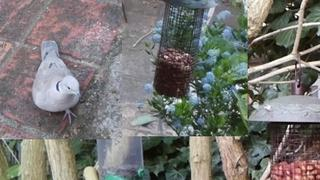collared dove: (31, 40, 82, 125)
